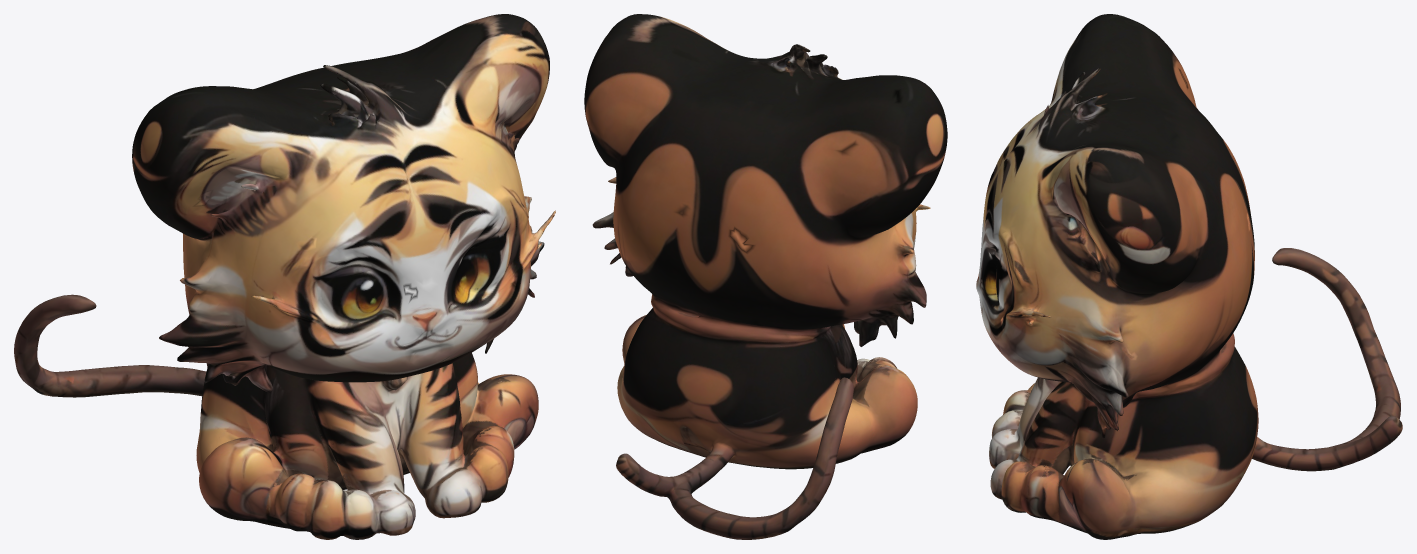
The model's file is tiger2.gltf.
3 views of the same model, side by side, from view 1: azimuth 30°, elevation 25°; view 2: azimuth 150°, elevation 25°; view 3: azimuth 270°, elevation 25° (orthographic). The views are drawn at different scales.
Visible parts, largest first — view 1: Mesh_0; view 2: Mesh_0; view 3: Mesh_0.
Part boxes in pixels (left/top/right/bottom): Mesh_0: left=14, top=14, right=555, bottom=539; Mesh_0: left=584, top=14, right=947, bottom=539; Mesh_0: left=976, top=14, right=1402, bottom=539.
Size of the model in its own units: 1.93 by 1.98 by 1.95.
Materials: 1 (1 with a texture image).
